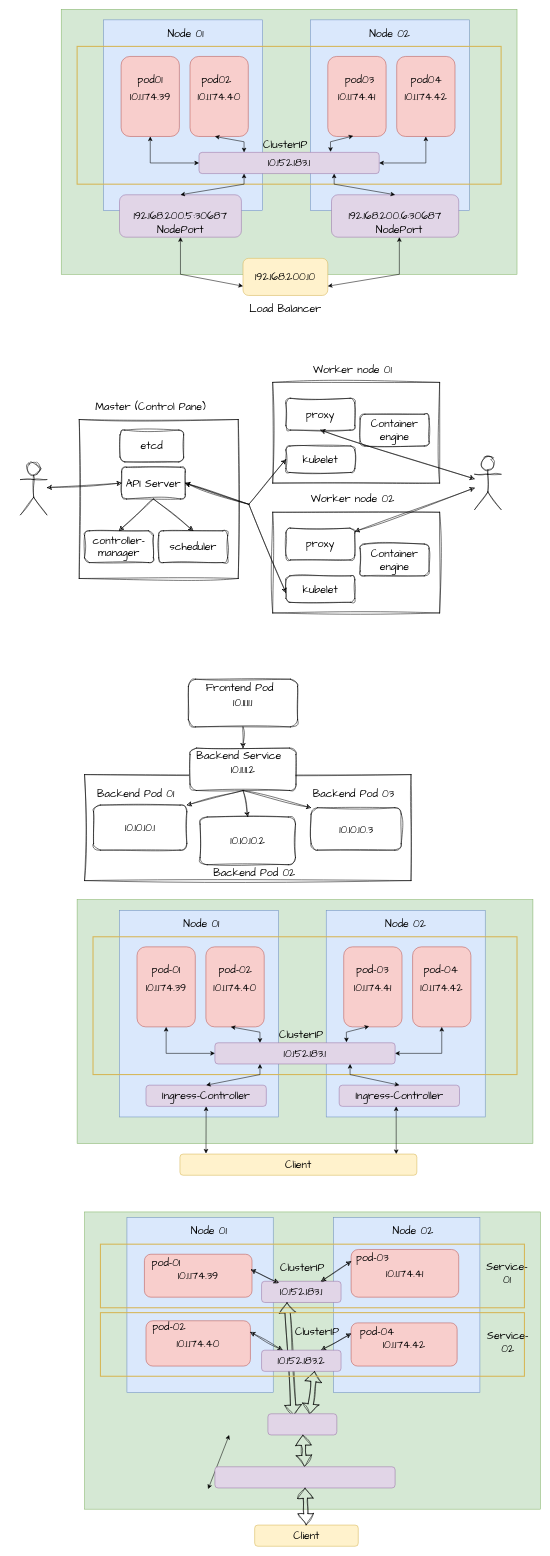
Some shapes in this 550 by 1556 pixel diagram are drawn without their labels. Here are the shapes that lost their labels. From the top down, the box of each, then its label:
(20, 461, 47, 515): Developer
(474, 456, 501, 510): User
(267, 1413, 337, 1435): Ingress
(214, 1466, 395, 1488): Load Balancer (Ingress Controller)
